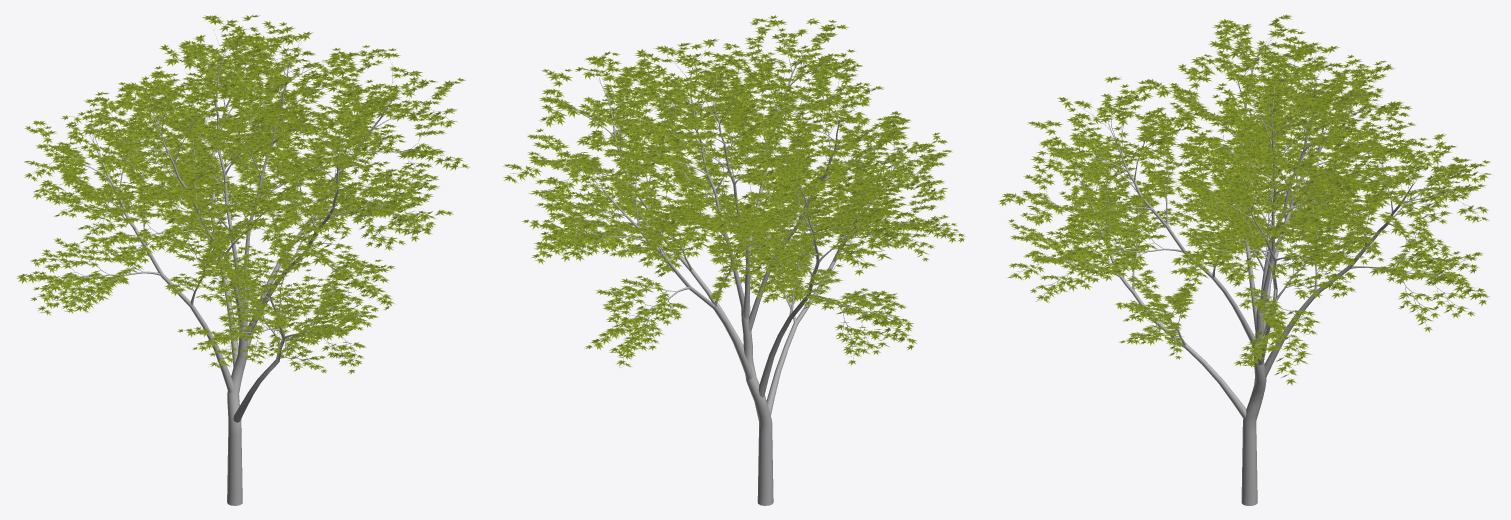
3 renders of one model, left to right at view 1: azimuth 30°, elevation 25°; view 2: azimuth 150°, elevation 25°; view 3: azimuth 270°, elevation 25°, orthographic. The views are drawn at different scales.
Parts seen in each view (by area): view 1: WGJ_Maple01_01..Shape; view 2: WGJ_Maple01_01..Shape; view 3: WGJ_Maple01_01..Shape.
Boxes of the visible parts, left/top/right/bottom form: WGJ_Maple01_01..Shape: left=17, top=15, right=469, bottom=505; WGJ_Maple01_01..Shape: left=502, top=15, right=965, bottom=505; WGJ_Maple01_01..Shape: left=999, top=14, right=1491, bottom=505.
Bounding box in the file's own units: 4.55 × 4.88 × 4.76.
3 materials, 1 textured.
